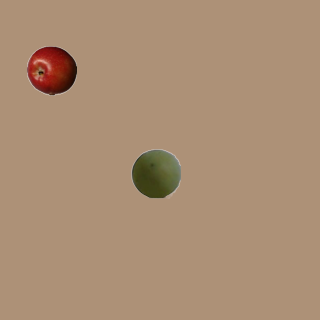Apple Braeburn: (26, 45, 76, 95)
Grape White 4: (130, 148, 180, 198)
